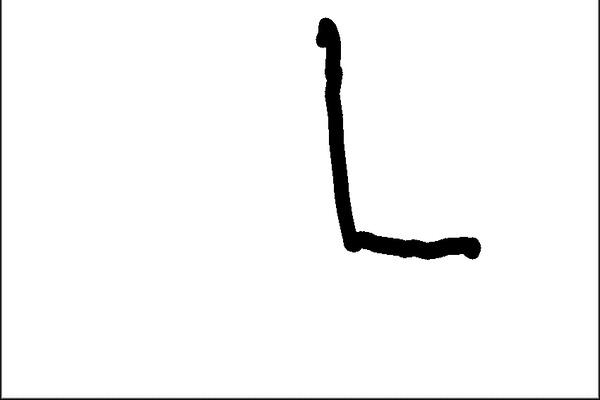L: (307, 6, 489, 268)
